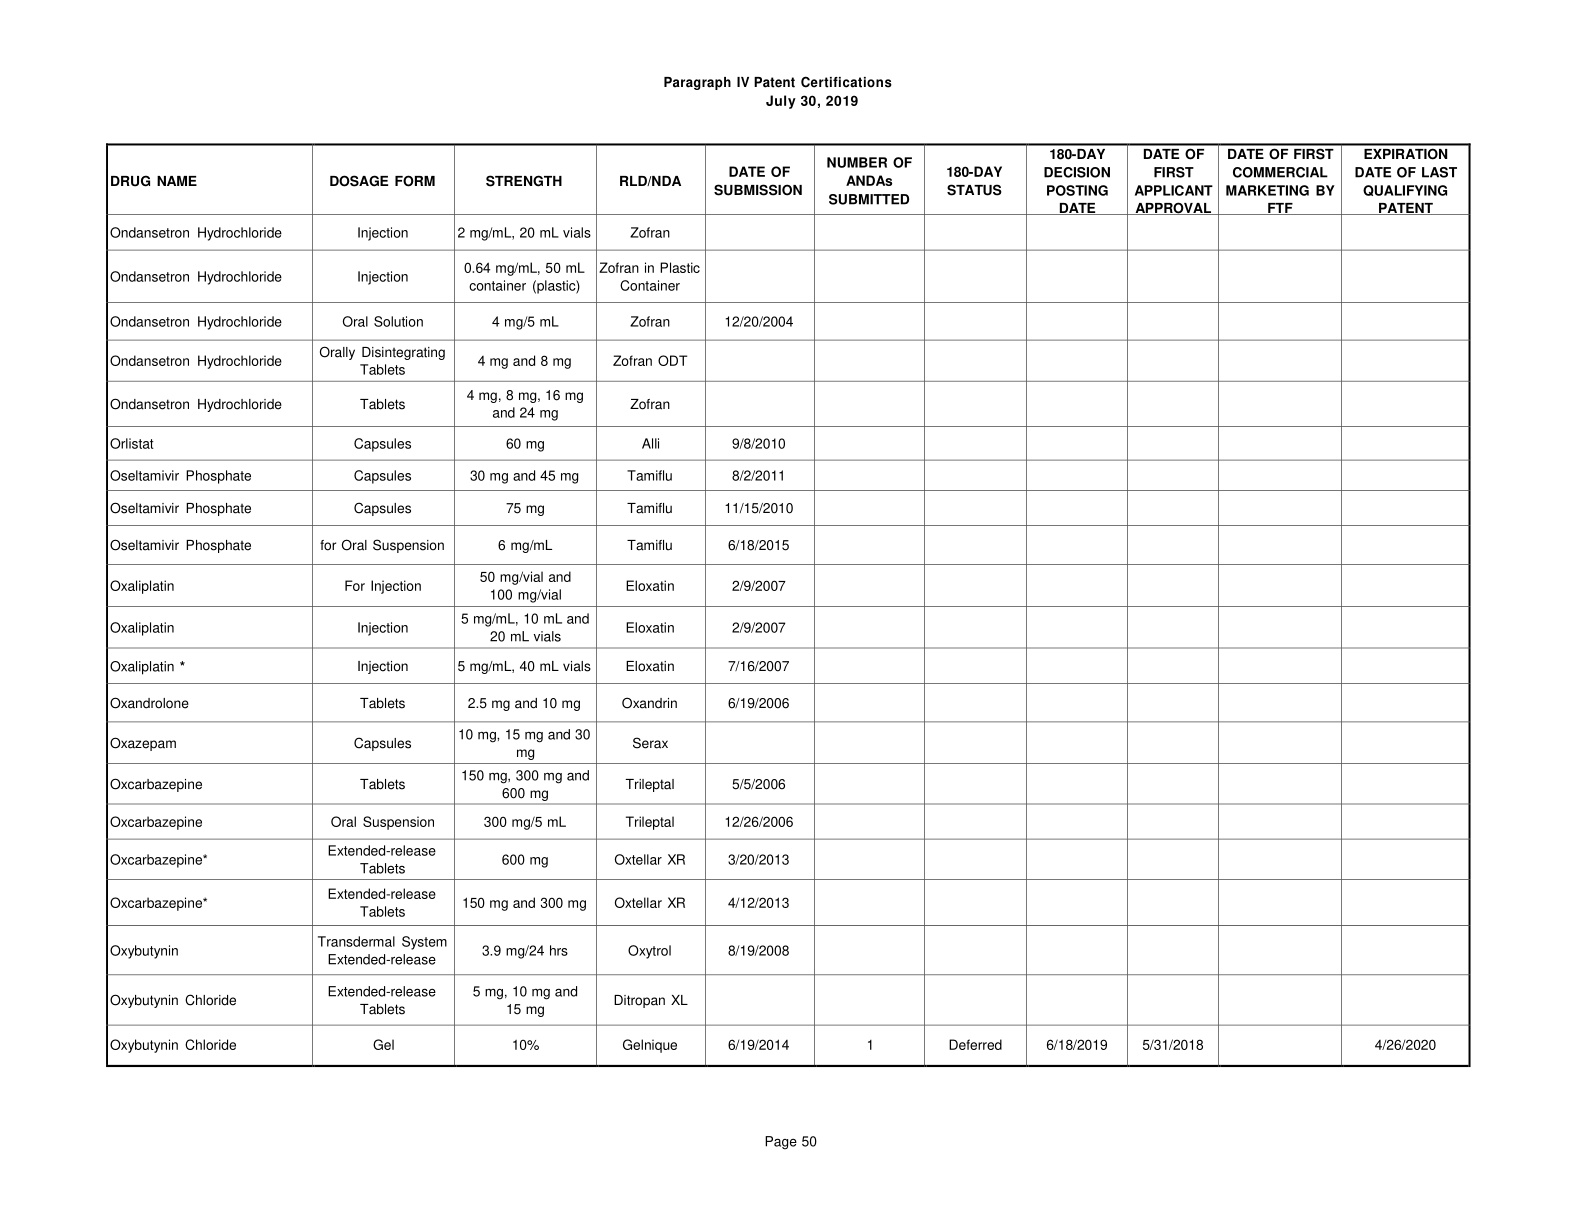full_lined: (105, 143, 1471, 1067)
